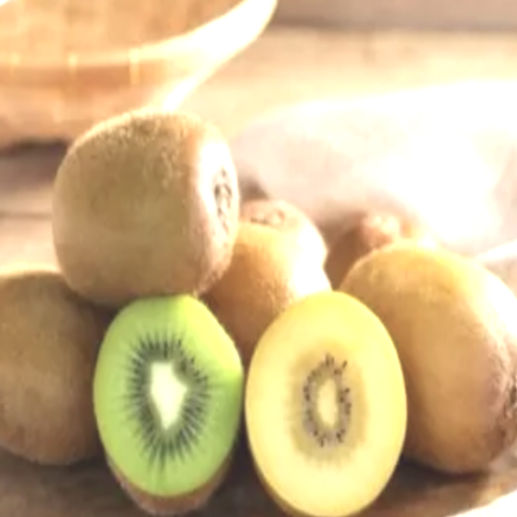kiwi: (326, 205, 517, 509), (37, 101, 254, 299)
